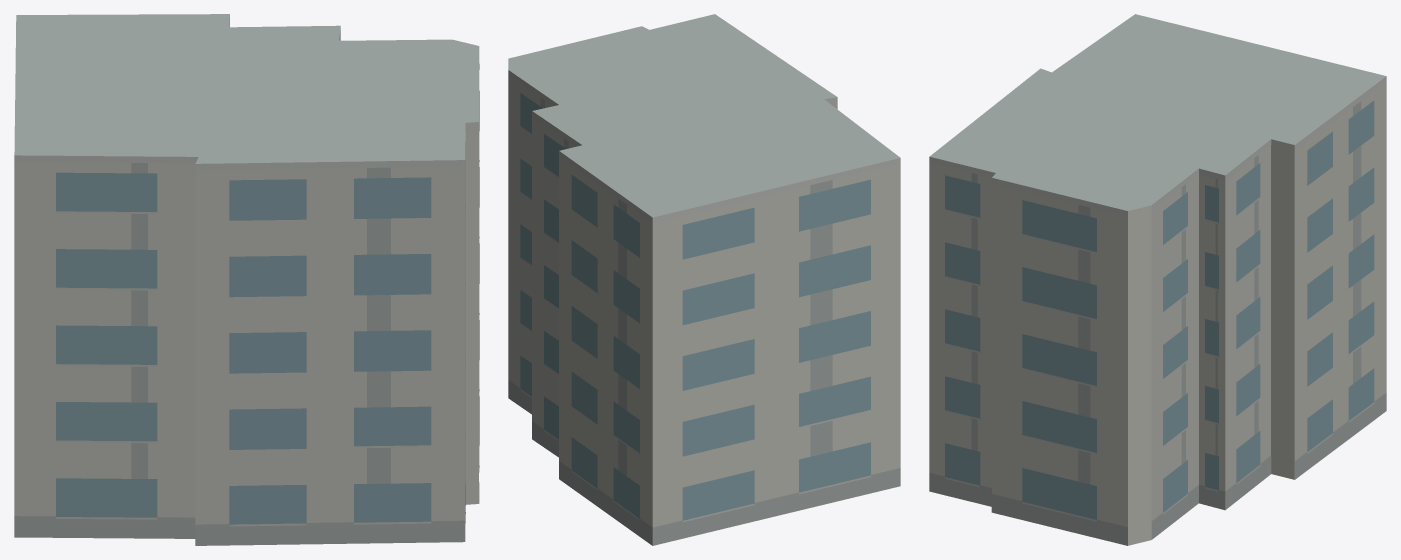
The model's file is survey-upis-32576052.glb.
3 renders of one model, left to right at view 1: azimuth 30°, elevation 25°; view 2: azimuth 150°, elevation 25°; view 3: azimuth 270°, elevation 25°, orthographic. The views are drawn at different scales.
Visible parts, largest first — view 1: survey-upis-32576052.tmp; view 2: survey-upis-32576052.tmp; view 3: survey-upis-32576052.tmp.
Boxes of the visible parts, left/top/right/bottom form: survey-upis-32576052.tmp: left=14, top=14, right=479, bottom=545; survey-upis-32576052.tmp: left=508, top=14, right=900, bottom=545; survey-upis-32576052.tmp: left=929, top=14, right=1386, bottom=545.
Bounding box in the file's own units: 18 × 14.25 × 17.65.
